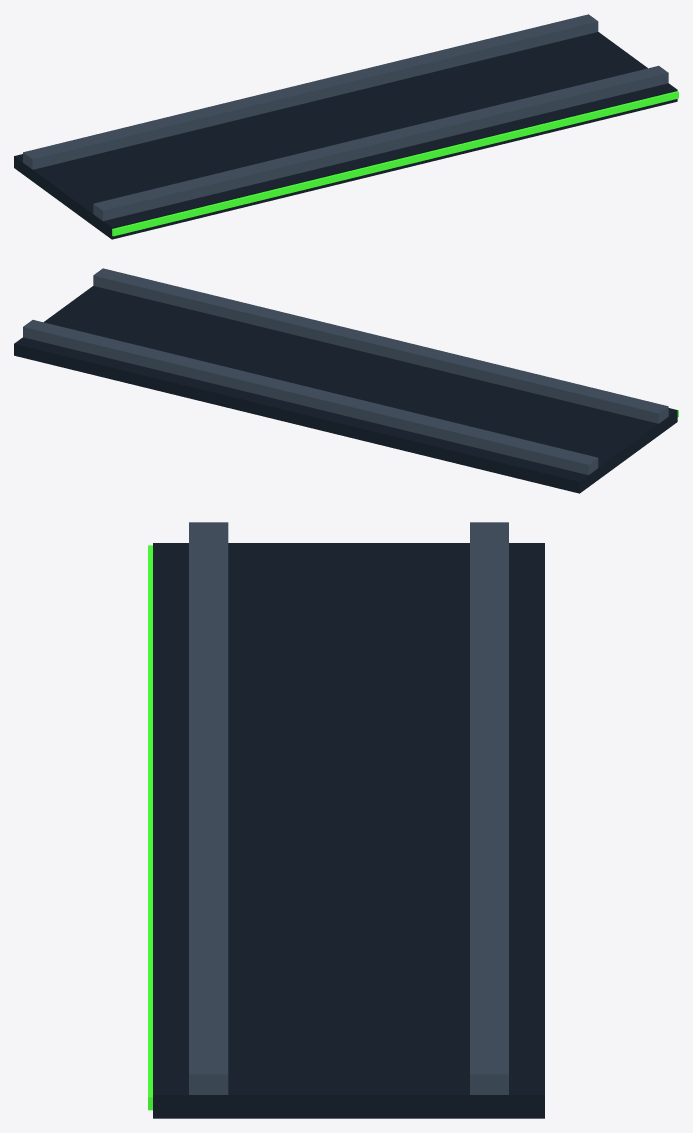
Rendered from moving_track.glb.
3 renders of one model, top to bottom at view 1: azimuth 30°, elevation 25°; view 2: azimuth 150°, elevation 25°; view 3: azimuth 270°, elevation 25°, orthographic. The views are drawn at different scales.
Visible parts, largest first — view 1: MovingTrack; view 2: MovingTrack; view 3: MovingTrack.
Boxes of the visible parts, x1,y1,x2,y2 form: MovingTrack: [14, 14, 678, 239]; MovingTrack: [14, 268, 678, 493]; MovingTrack: [148, 522, 544, 1118].
Size of the model in its own units: 2 by 0.075 by 0.608.
Materials: 1 (1 with a texture image).
